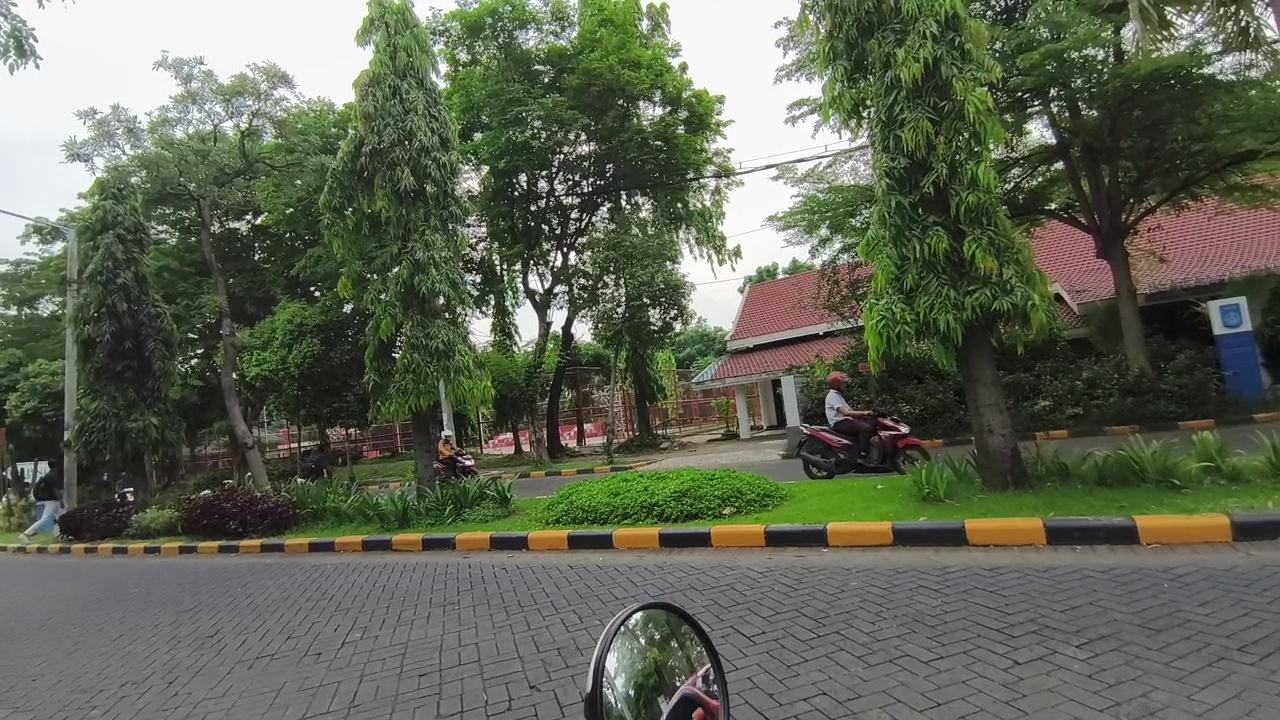Helmet: (825, 371, 873, 457), (437, 428, 457, 475)
Motor: (797, 413, 929, 478), (434, 451, 479, 479)
